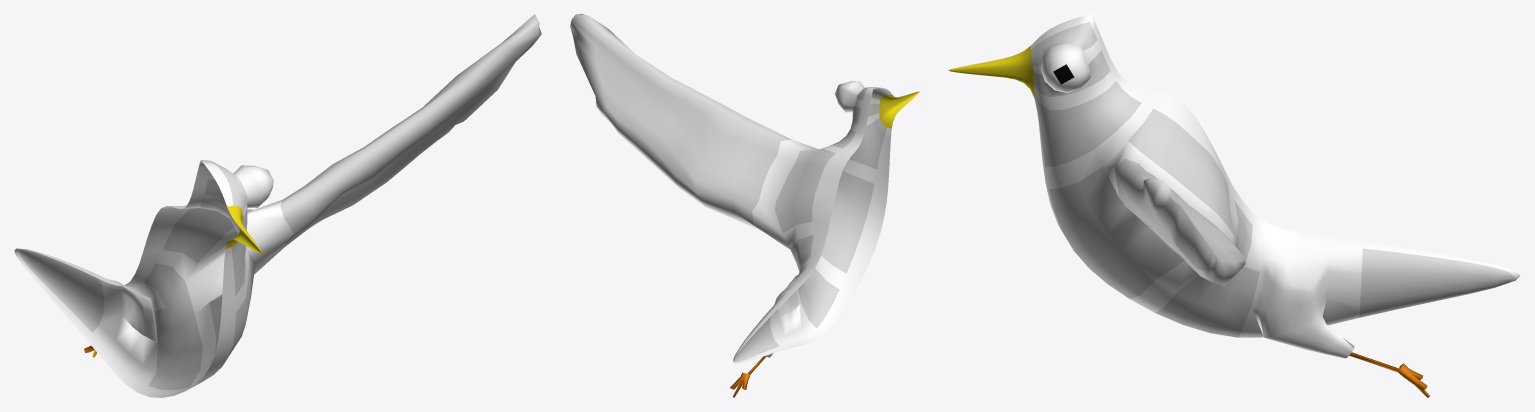
Rendered from pegion_bird_1781723204046_model.glb.
3 renders of one model, left to right at view 1: azimuth 30°, elevation 25°; view 2: azimuth 150°, elevation 25°; view 3: azimuth 270°, elevation 25°, orthographic. The views are drawn at different scales.
Visible parts, largest first — view 1: Cube; view 2: Cube; view 3: Cube.
Part boxes in pixels (<box>): Cube: <box>14,14,541,397</box>; Cube: <box>570,14,919,397</box>; Cube: <box>948,14,1520,397</box>.
Size of the model in its own units: 11.39 by 10.25 by 13.28.
